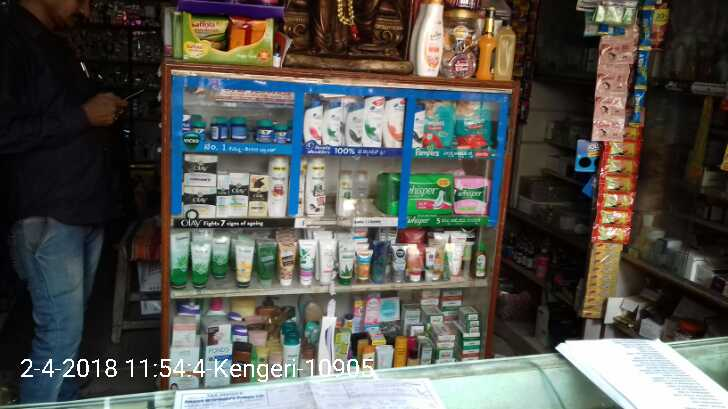vicks: (181, 114, 292, 140)
